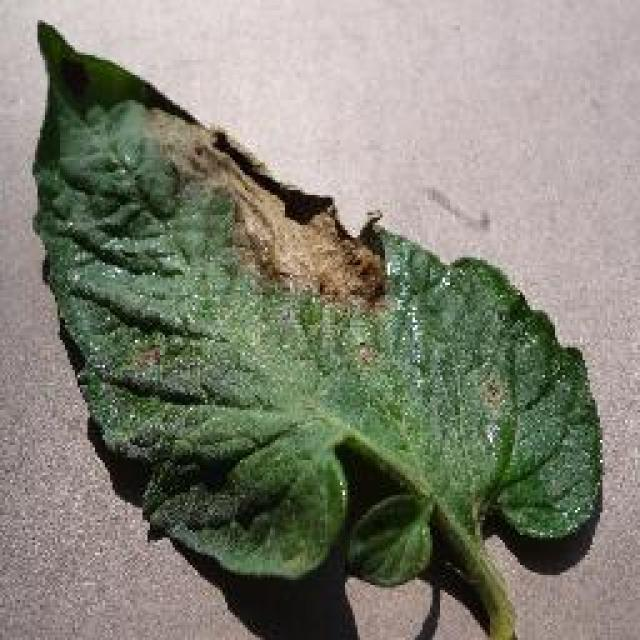Tomato___Late_blight: (29, 13, 602, 638)
